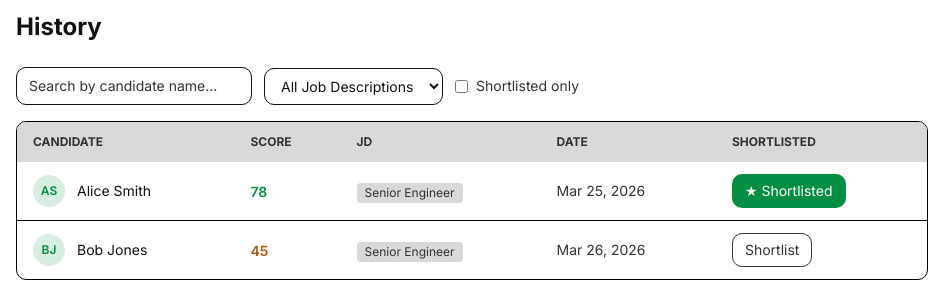
Test: CandidateHistoryTable › filter_shortlisted_only_shows_shortlisted_rows
Click the checkbox. click: (462, 86)
box: top-left (455, 80), bottom-right (468, 92)
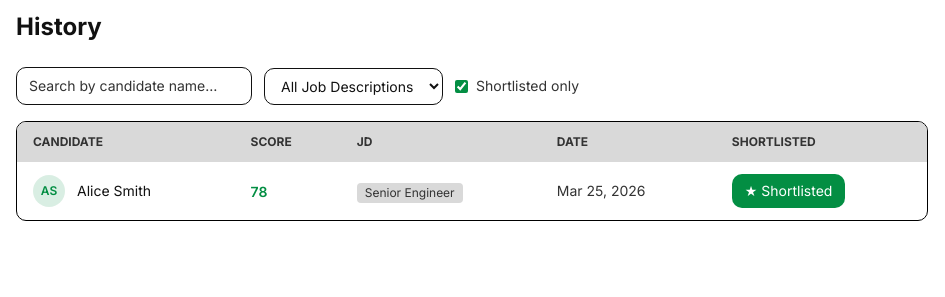
Expected: the text "Alice Smith" is shown, top-left (77, 181), bottom-right (151, 201)
Now the text "Bob Jones" is gone
